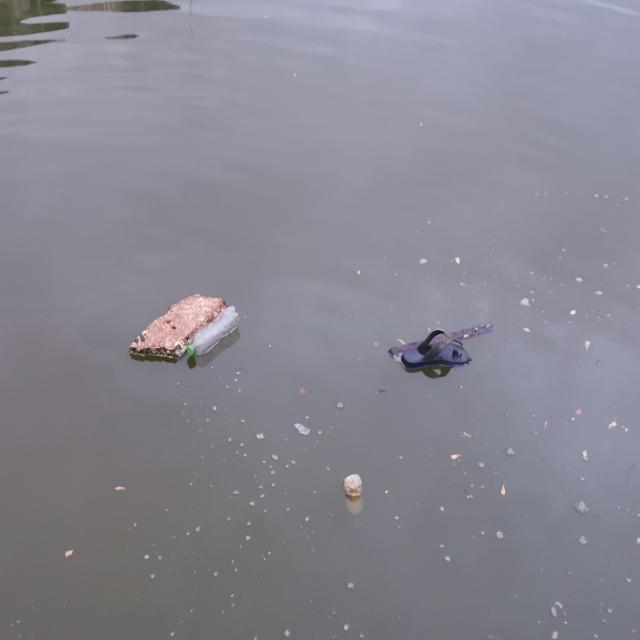foam: (126, 288, 228, 359)
plastic: (183, 302, 240, 358), (339, 469, 368, 522)
unknow: (397, 328, 477, 370)
